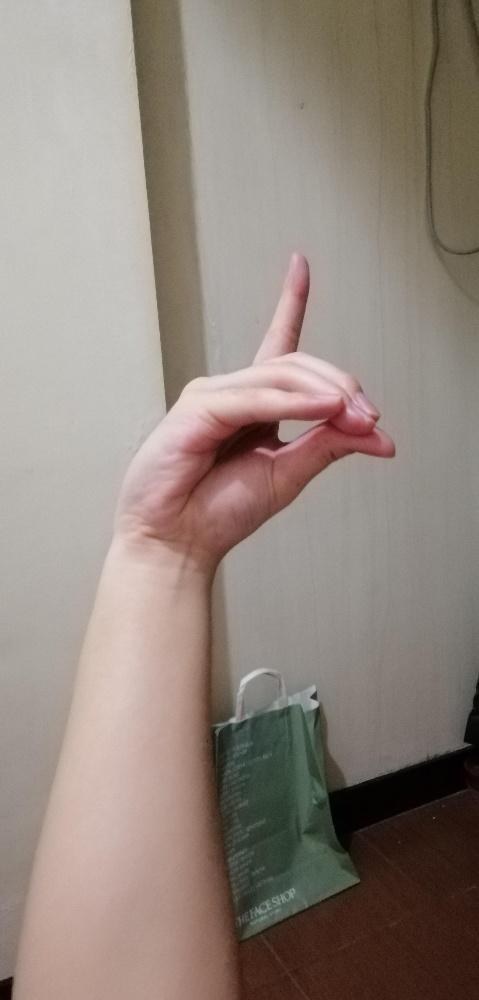d: (115, 249, 397, 549)
